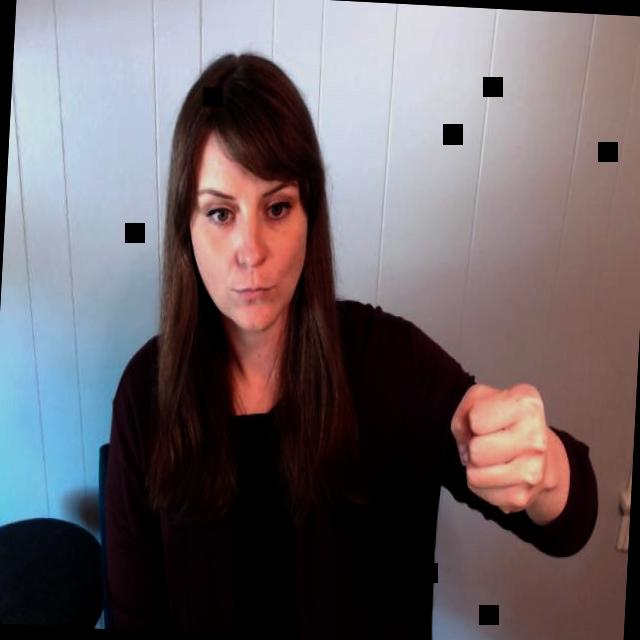Rock: (444, 363, 560, 527)
